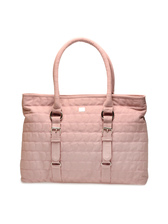bag: (18, 37, 151, 185)
